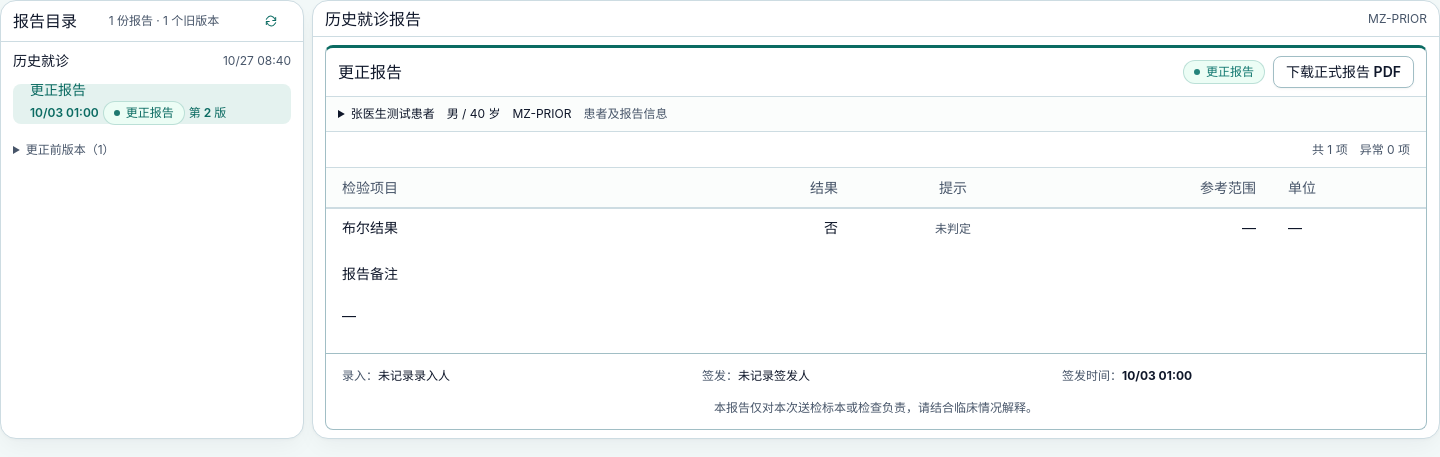
Test: outpatient diagnostic results truth › preserves corrected report version labels for an earlier encounter
Expected: the text "历史版本" is not shown
Expected: the element "真实报告" is not shown
What coordinates should you click on to do the following:
click the heading "更正前版本（1）"
I would click on:
 (70, 150)
Its box is [26, 142, 115, 157].
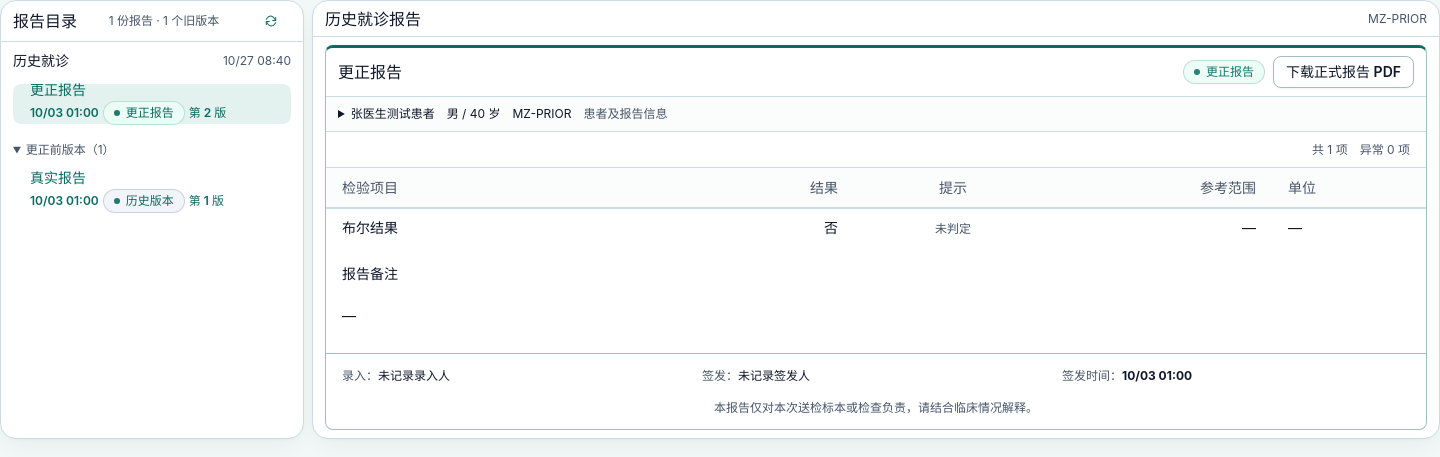
What coordinates should you click on to do the following:
click the button with aria-label "查看真实报告，第1版，历史版本"
I would click on:
 (152, 192)
Its box is [13, 172, 291, 212].
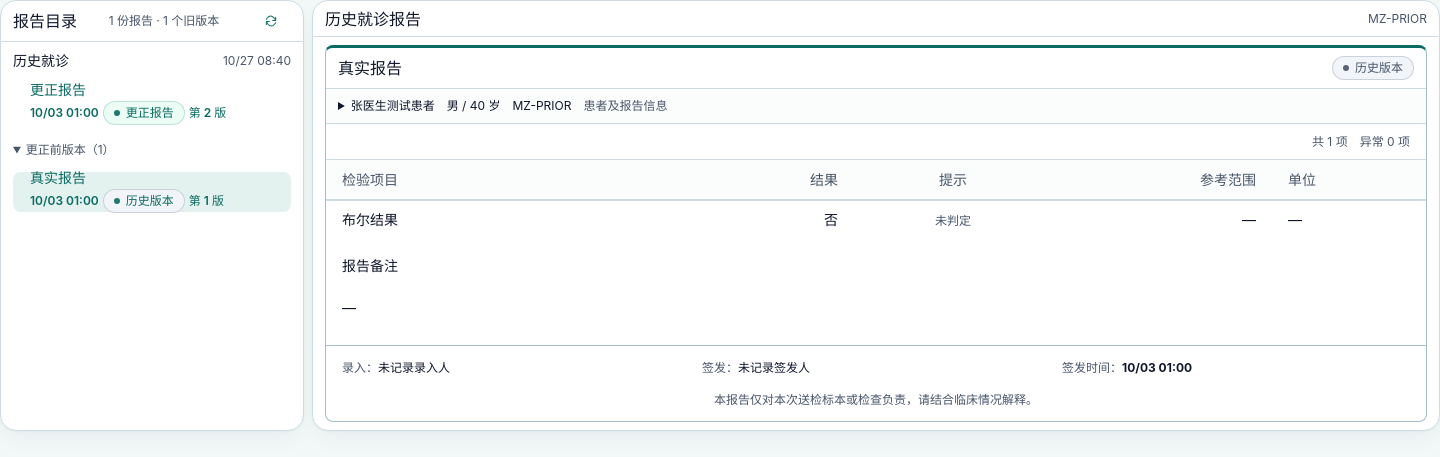
Expected: the 1st text "历史版本" is shown, [1332, 56, 1414, 80]
Expected: the button "下载正式报告 PDF" is gone
